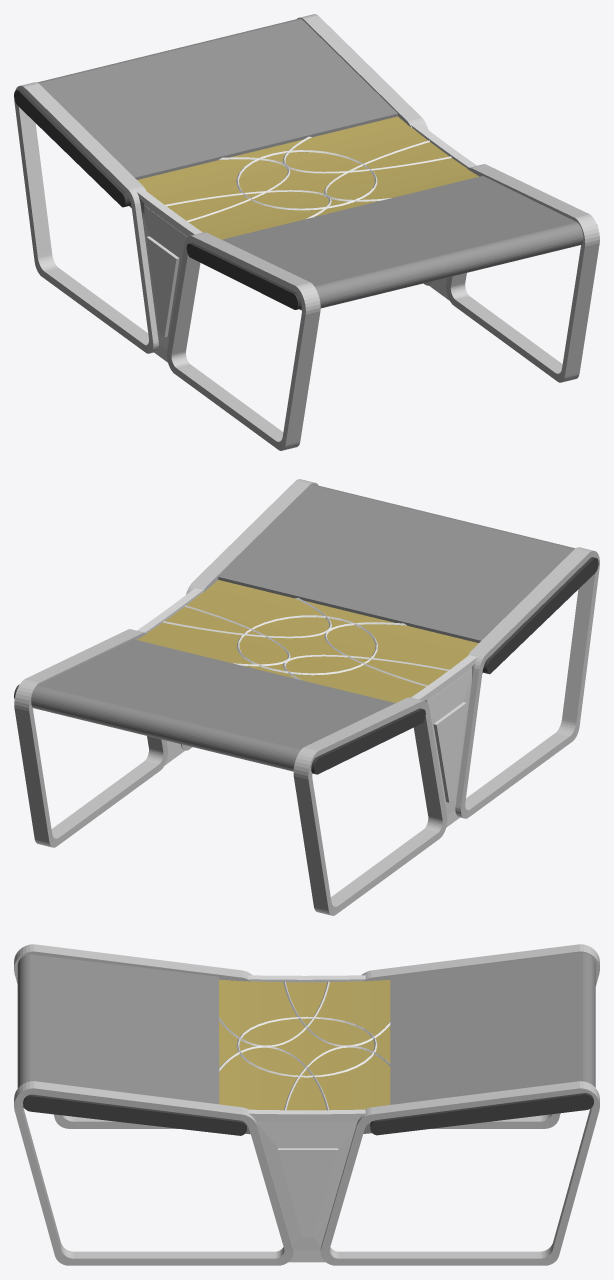
File: Bench_Flat.fbx
3 views of the same model, one above another, from view 1: azimuth 30°, elevation 25°; view 2: azimuth 150°, elevation 25°; view 3: azimuth 270°, elevation 25° (orthographic).
Visible parts, largest first — view 1: Circle.014, Circle.023, Circle.020, Circle.007, Circle.029, Circle.018, Plane.005, Circle.022, Circle.005, Circle.019, Circle.024; view 2: Circle.014, Circle.023, Circle.007, Circle.020, Circle.005, Circle.018, Plane.005, Circle.022, Circle.029, Circle.019, Circle.024; view 3: Circle.014, Circle.023, Circle.029, Circle.005, Plane.003, Circle.027, Circle.007, Circle.020, Circle.022, Circle.024, Circle.019.
Part boxes in pixels (x1,y1,x2,y2): Circle.014: (37, 18, 583, 310); Circle.023: (137, 116, 478, 239); Circle.020: (14, 82, 158, 353); Circle.007: (166, 232, 320, 450); Circle.029: (446, 164, 599, 382); Circle.018: (14, 89, 301, 309); Plane.005: (142, 205, 186, 362); Circle.022: (165, 136, 451, 221); Circle.005: (297, 14, 432, 285); Circle.019: (137, 190, 202, 236); Circle.024: (411, 123, 476, 168); Circle.014: (31, 485, 574, 771); Circle.023: (137, 580, 478, 702); Circle.007: (455, 547, 599, 818); Circle.020: (293, 697, 447, 915); Circle.005: (14, 629, 167, 847); Circle.018: (311, 557, 598, 774); Plane.005: (427, 669, 471, 827); Circle.022: (163, 597, 449, 686); Circle.029: (181, 479, 318, 750); Circle.019: (411, 655, 477, 700); Circle.024: (137, 588, 202, 632); Circle.014: (17, 953, 595, 1134); Circle.023: (219, 979, 390, 1110); Circle.029: (14, 1081, 293, 1265); Circle.005: (320, 1081, 599, 1265); Plane.003: (256, 1121, 357, 1262); Circle.027: (23, 1093, 593, 1135); Circle.007: (14, 944, 252, 1128); Circle.020: (361, 944, 599, 1128); Circle.022: (219, 981, 390, 1110); Circle.024: (248, 1109, 370, 1123); Circle.019: (248, 975, 365, 982).
Size of the model in its own units: 199 by 112 by 335.
